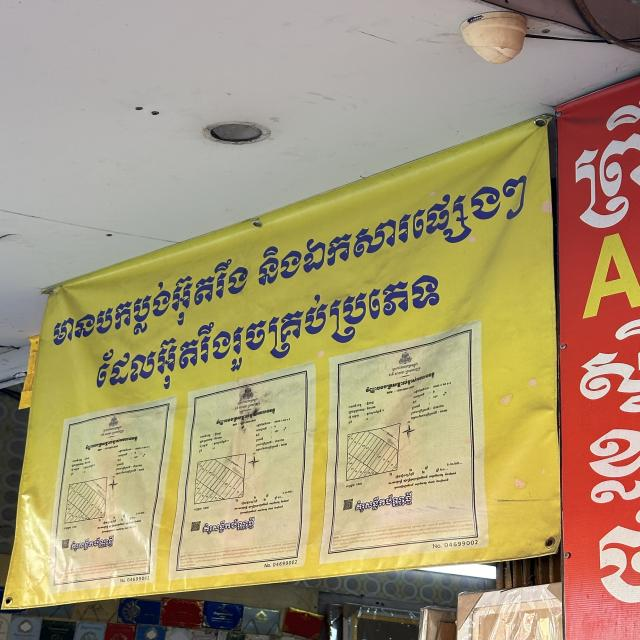1: (40, 163, 537, 358)
Yolov11_80vkh: (78, 262, 440, 404)
